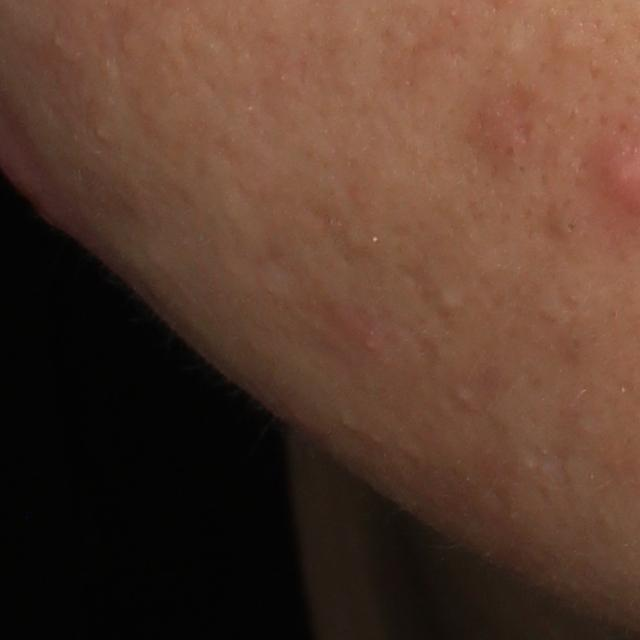comedo: (455, 384, 476, 407), (556, 217, 580, 235)
